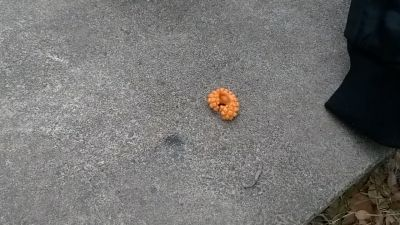eggs: (207, 87, 240, 121)
